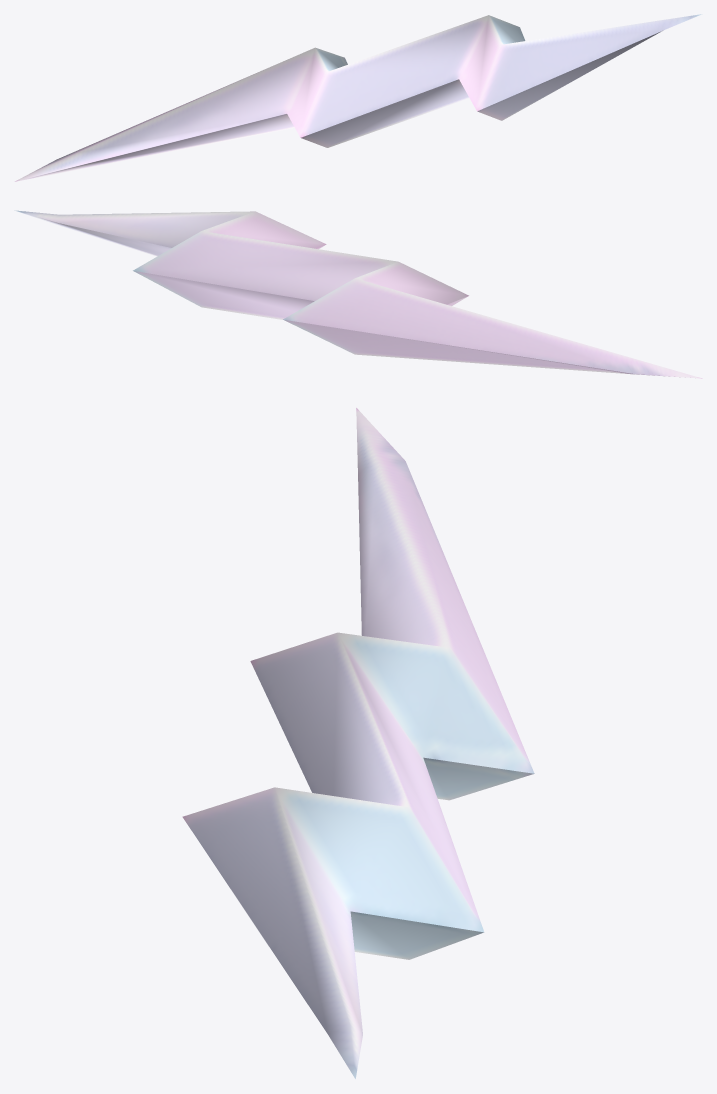
The model's file is WEA_ThunderBolt.fbx.
3 views of the same model, one above another, from view 1: azimuth 30°, elevation 25°; view 2: azimuth 150°, elevation 25°; view 3: azimuth 270°, elevation 25° (orthographic). The views are drawn at different scales.
Parts seen in each view (by area): view 1: WEA_ThunderBolt_0_mesh; view 2: WEA_ThunderBolt_0_mesh; view 3: WEA_ThunderBolt_0_mesh.
Part boxes in pixels (x1,y1,x2,y2): WEA_ThunderBolt_0_mesh: (15,14,702,181); WEA_ThunderBolt_0_mesh: (14,210,702,378); WEA_ThunderBolt_0_mesh: (182,408,534,1078).
Size of the model in its own units: 35.71 by 3.78 by 7.91.
1 material, 1 textured.
